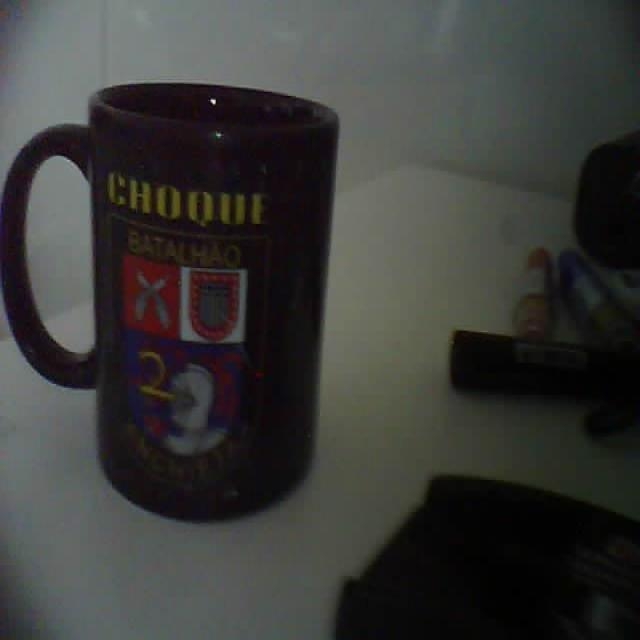caneca: (0, 83, 338, 520)
